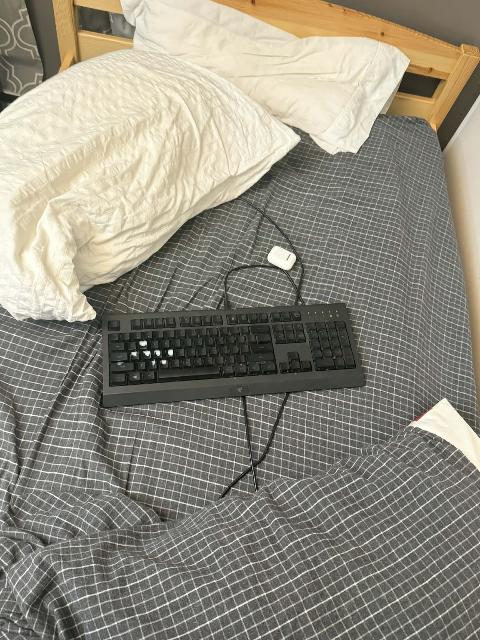ahkeyboard: (94, 297, 371, 410)
